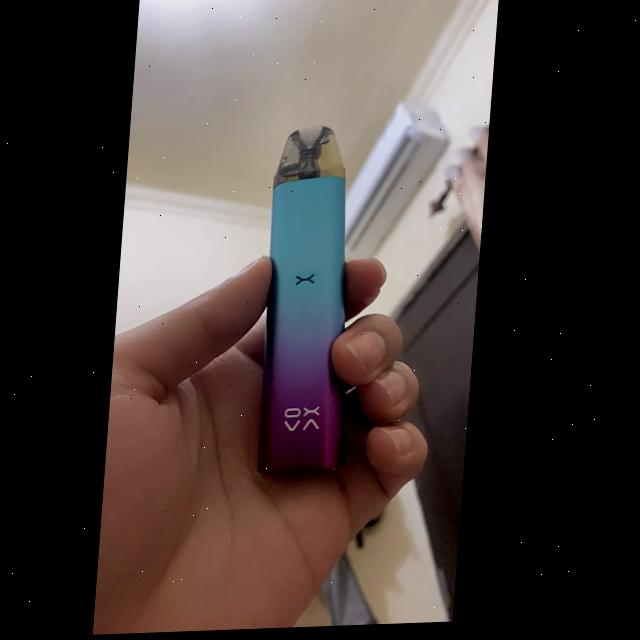vape: (256, 123, 372, 481)
